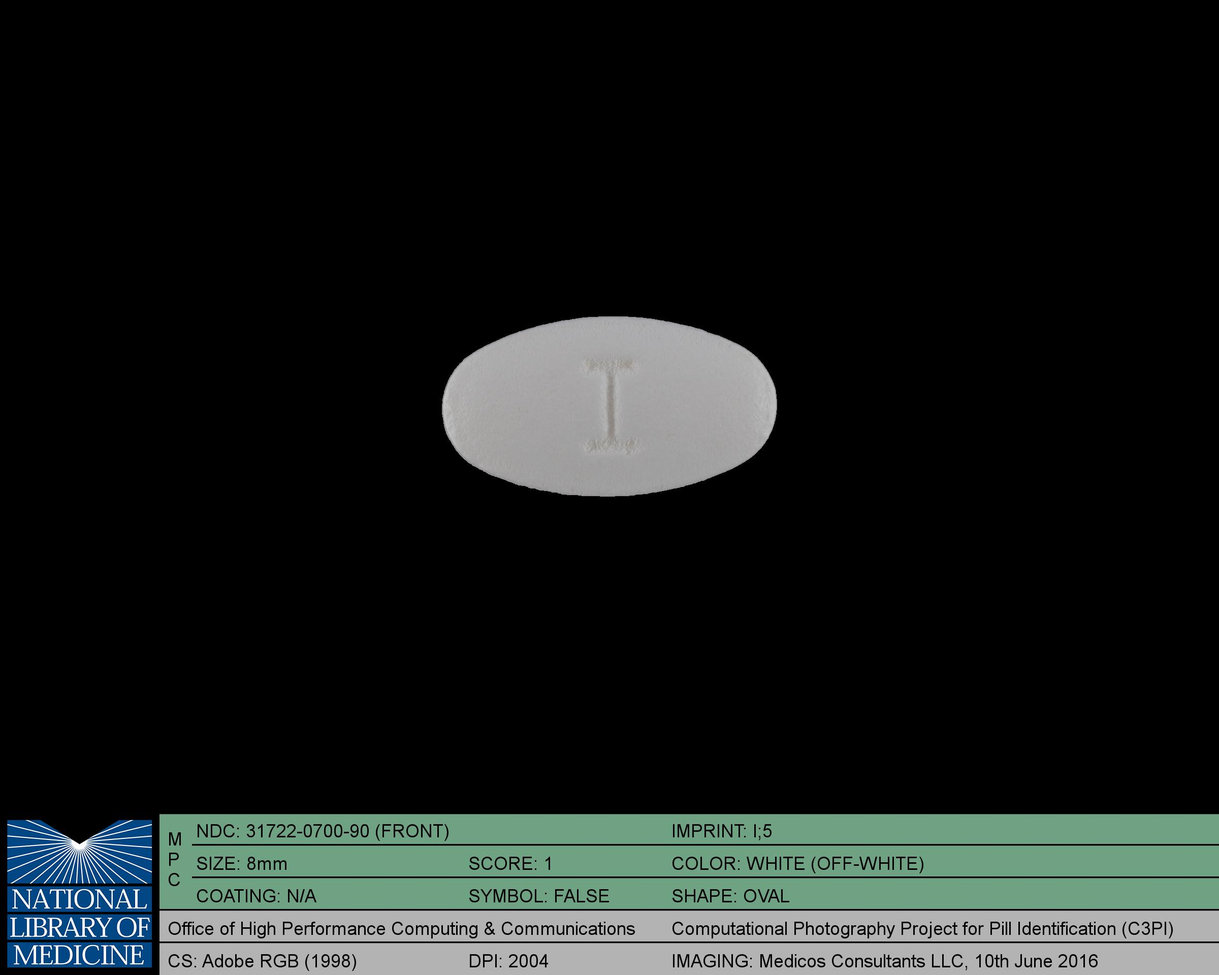Pill: (428, 306, 789, 506)
